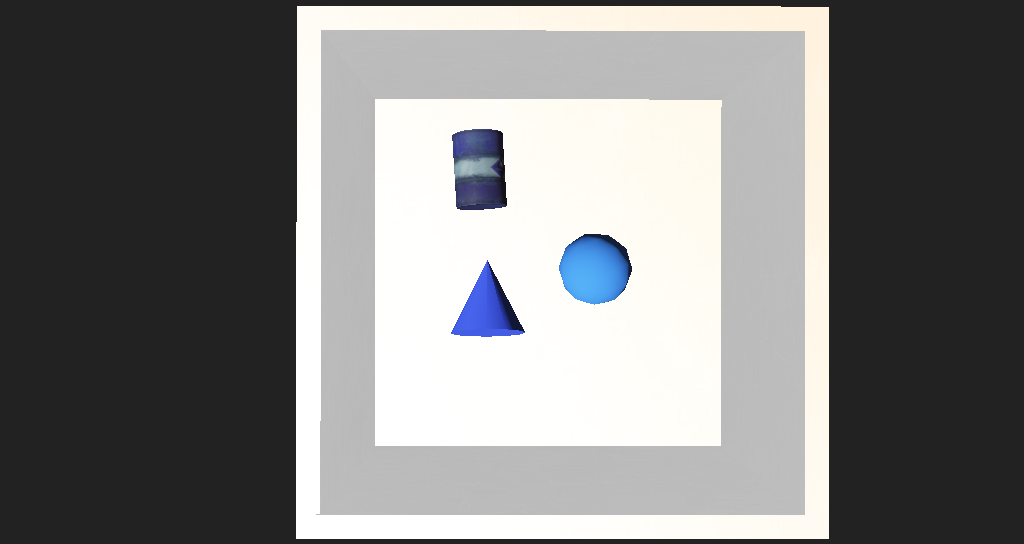cone: (418, 181, 472, 229)
cylinder: (421, 253, 482, 310)
sphere: (515, 246, 576, 289)
